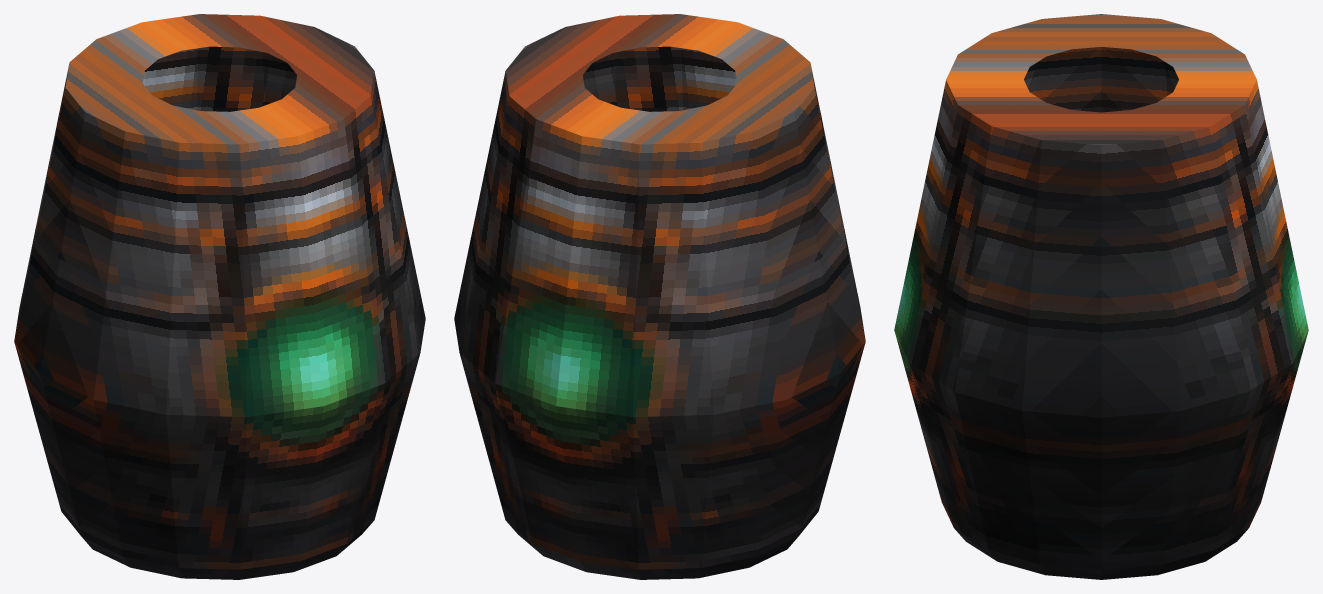
Rendered from barrel-lava.obj.
3 renders of one model, left to right at view 1: azimuth 30°, elevation 25°; view 2: azimuth 150°, elevation 25°; view 3: azimuth 270°, elevation 25°, orthographic.
Size of the model in its own units: 0.3718 by 0.4492 by 0.3718.
